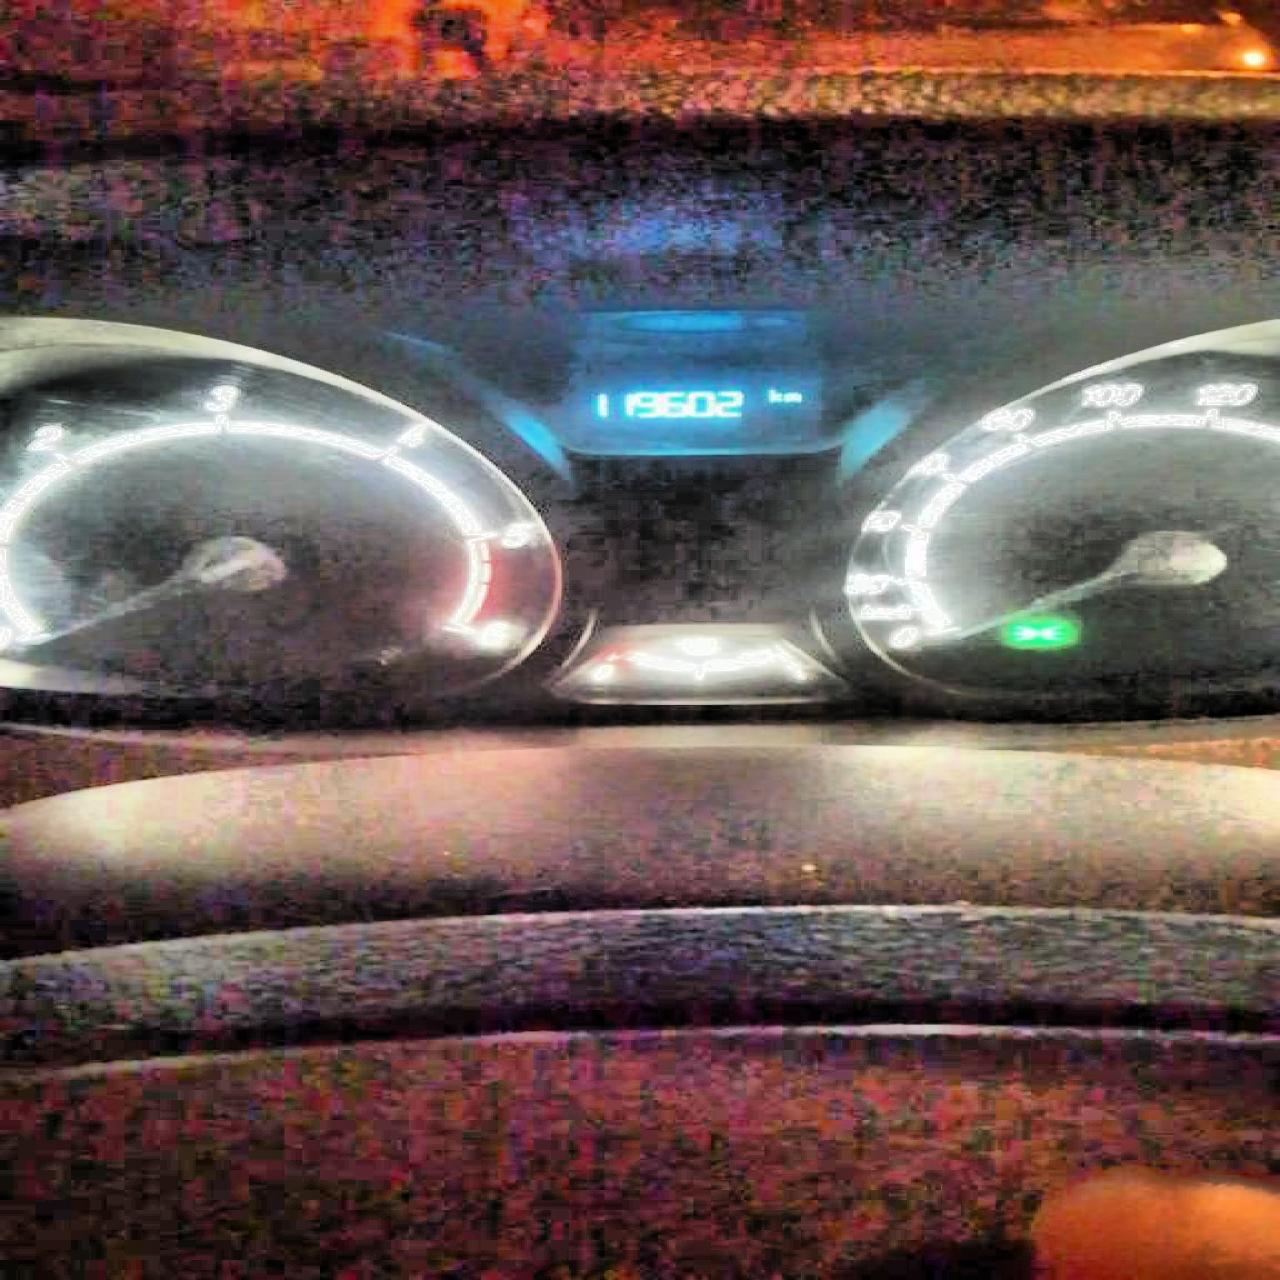0: (687, 390, 713, 417)
1: (593, 392, 607, 417), (622, 390, 631, 415)
2: (715, 388, 744, 417)
6: (660, 390, 685, 418)
9: (633, 388, 660, 417)
X: (767, 388, 782, 402), (782, 390, 799, 401)
odometer: (536, 349, 869, 456)
